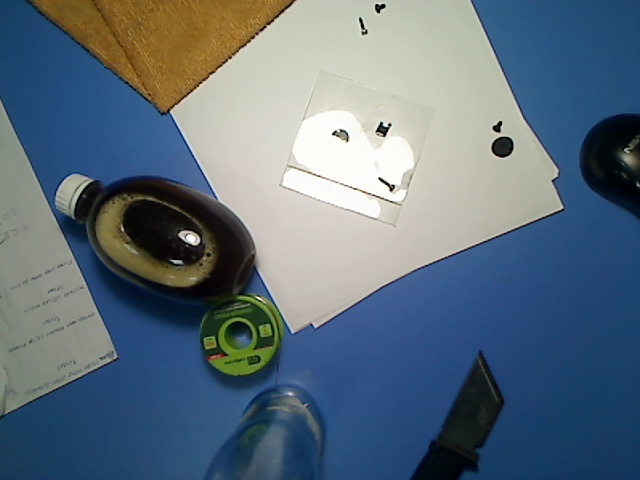plast_bottle: (47, 161, 260, 313)
